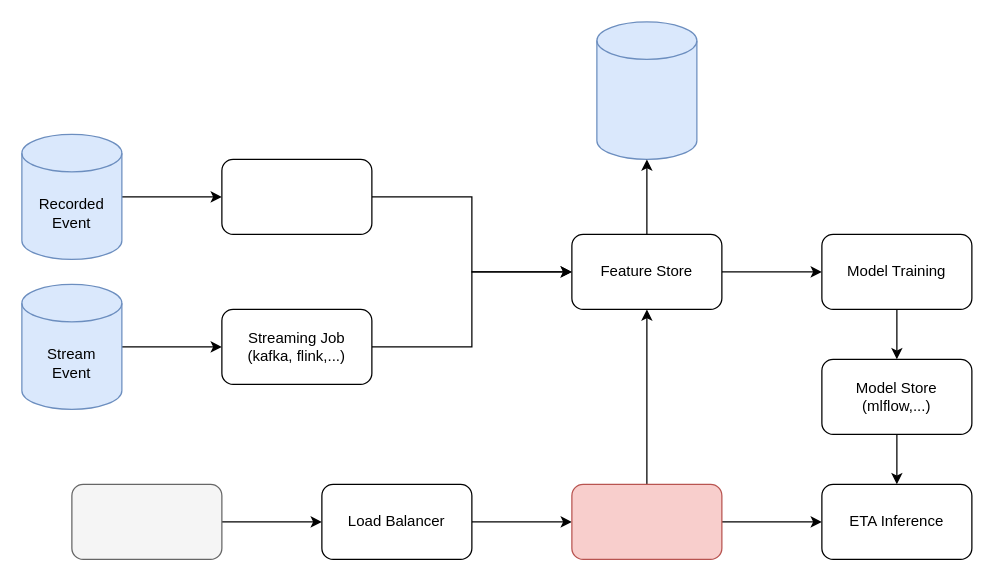
The diagram is 994 pixels wide and 581 high, and some of its shapes have lost their labels. The shapes that lost their labels are listed below. From the top down, each one's centre as x and y in pixels, then its label:
At pixel 646 90: "Vector Database (bigtable, cassandra)".
At pixel 296 196: "Batch Job (spark,...)".
At pixel 146 521: "Be App".
At pixel 646 521: "ETA Service".
